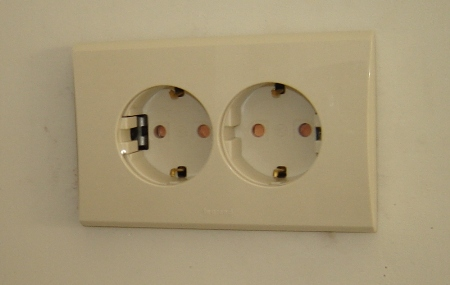raccoon: (216, 81, 323, 189), (112, 83, 215, 190)
